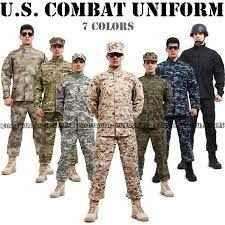uniform: (85, 64, 142, 206), (7, 40, 45, 178), (58, 72, 98, 196), (39, 49, 71, 172)
